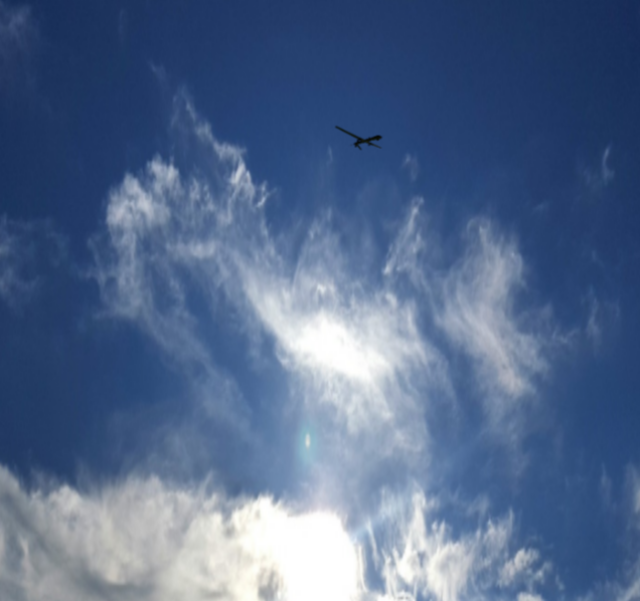military drone: (335, 125, 382, 149)
